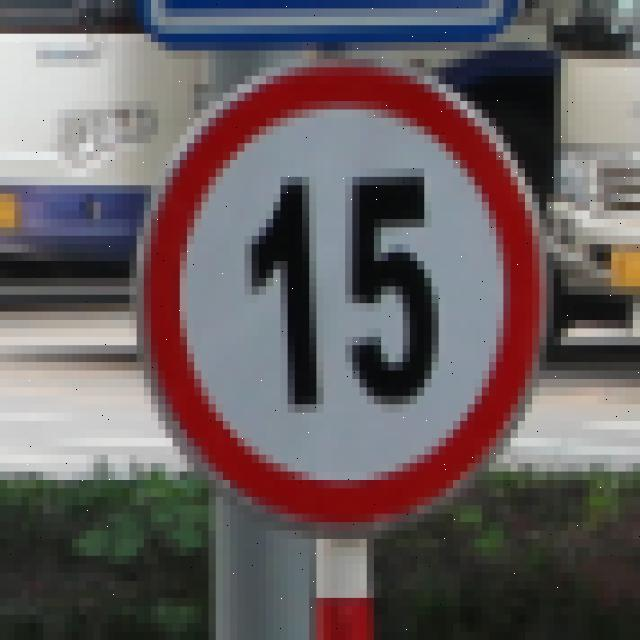speed limit 20: (136, 58, 547, 526)
